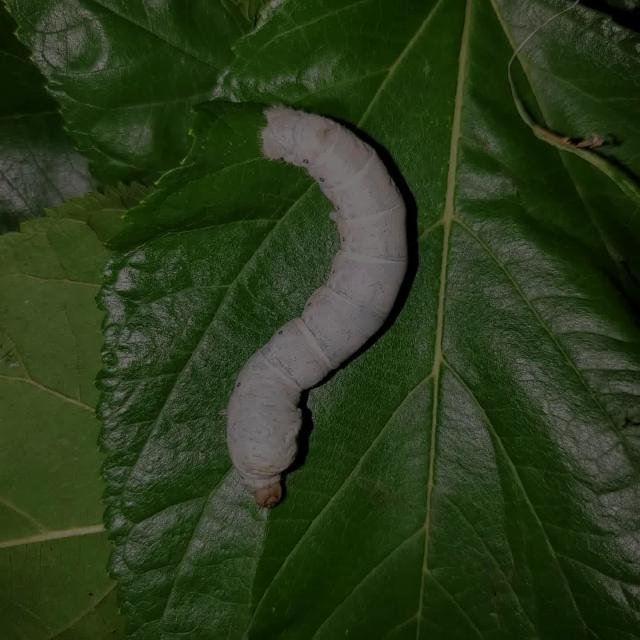Healthy: (211, 102, 418, 512)
